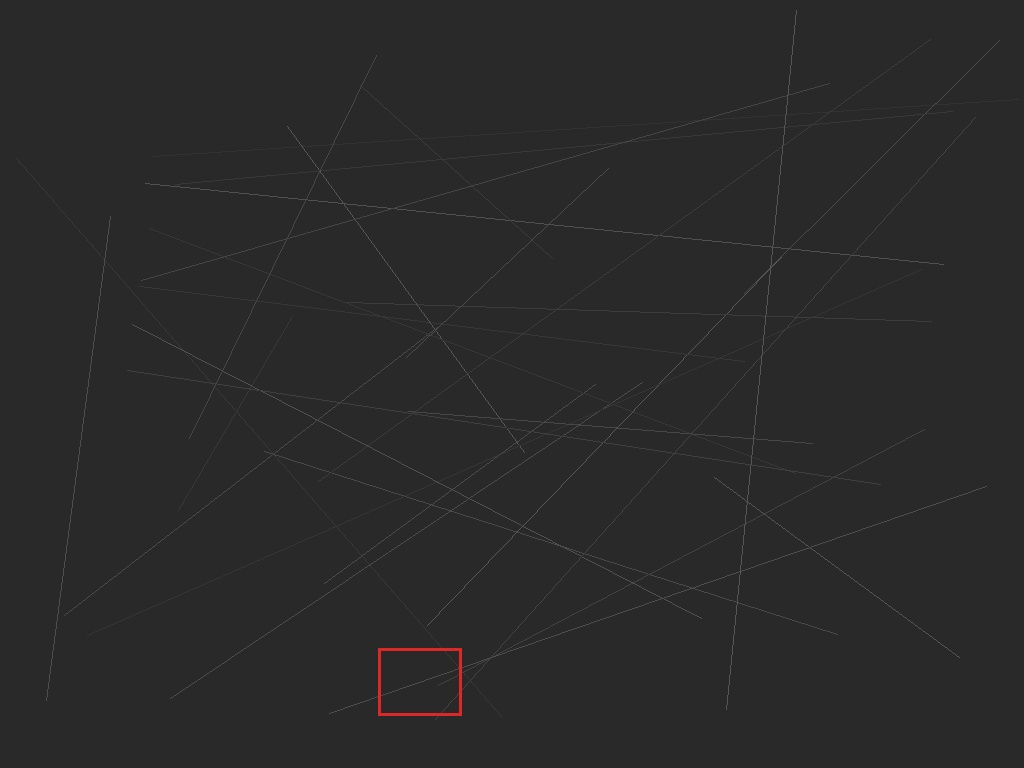D40: (378, 648, 461, 715)
